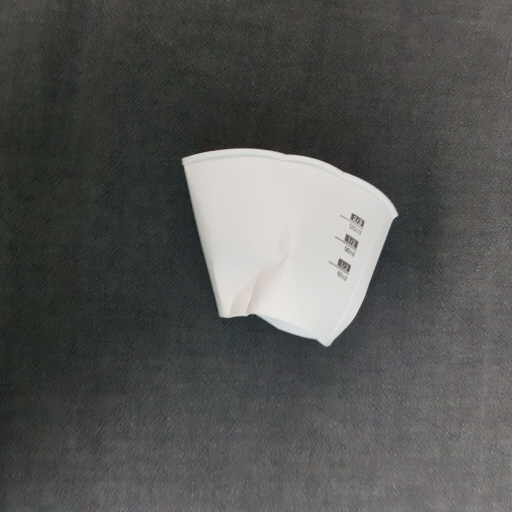Paper_1: (178, 145, 399, 350)
